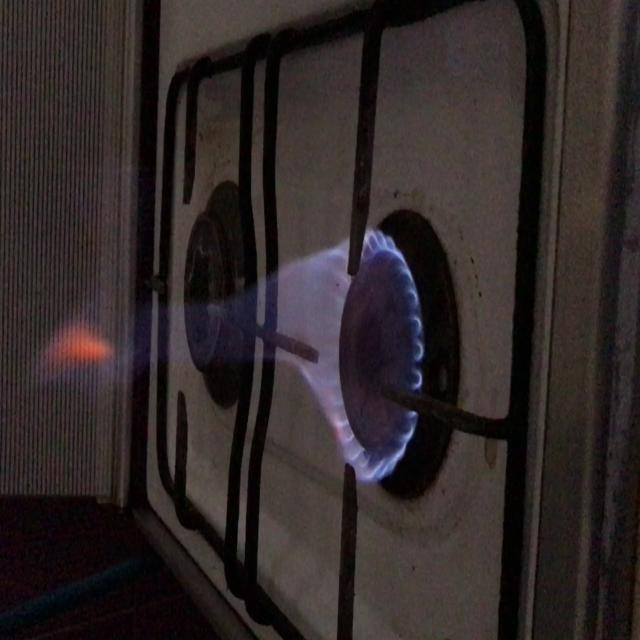fire: (260, 221, 428, 489)
